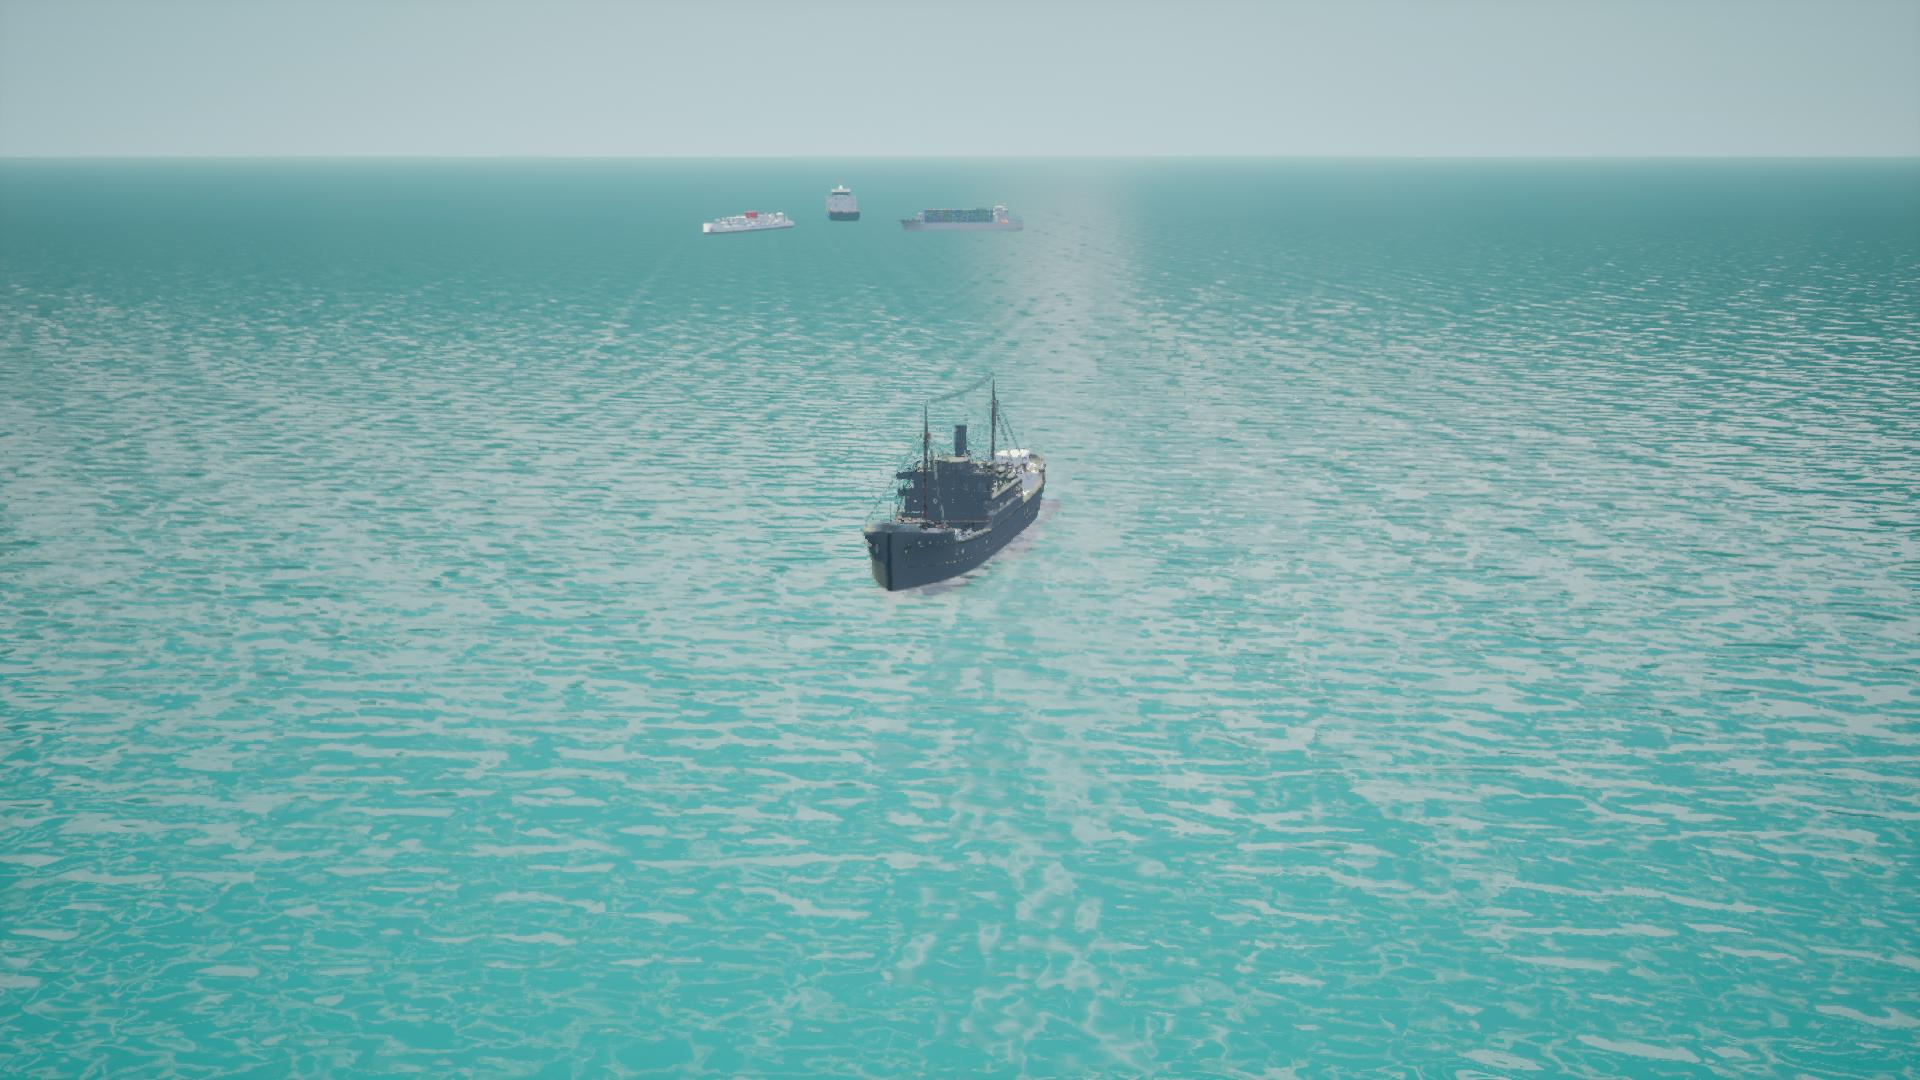Fishing Boat: (865, 361, 1055, 596), (903, 203, 1025, 233), (698, 211, 795, 236), (822, 185, 858, 223)
